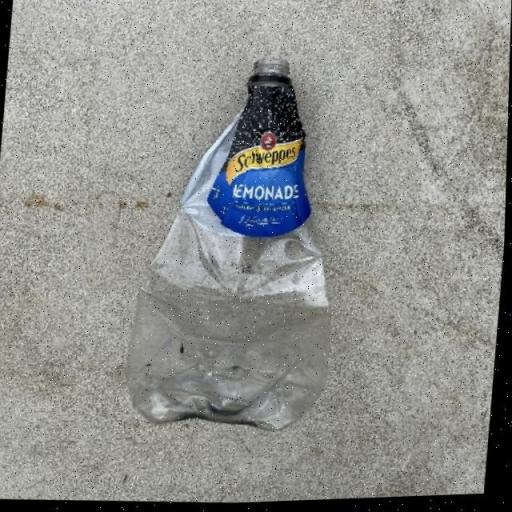plastic: (122, 50, 356, 439)
